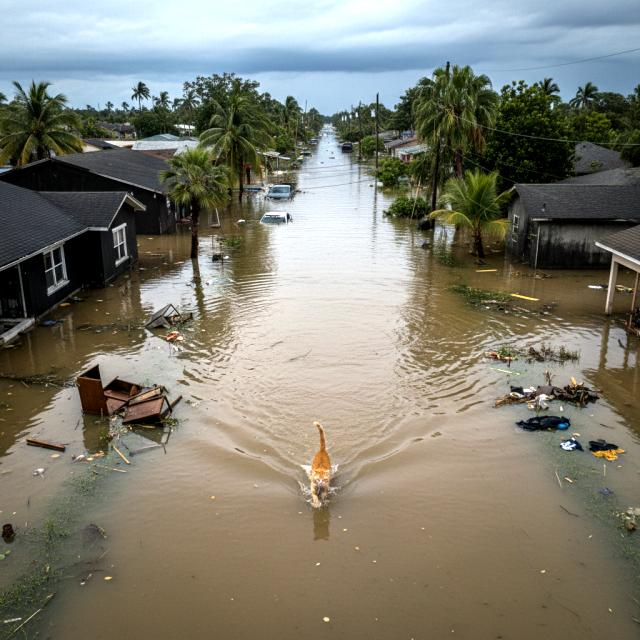cat: (296, 414, 348, 520)
